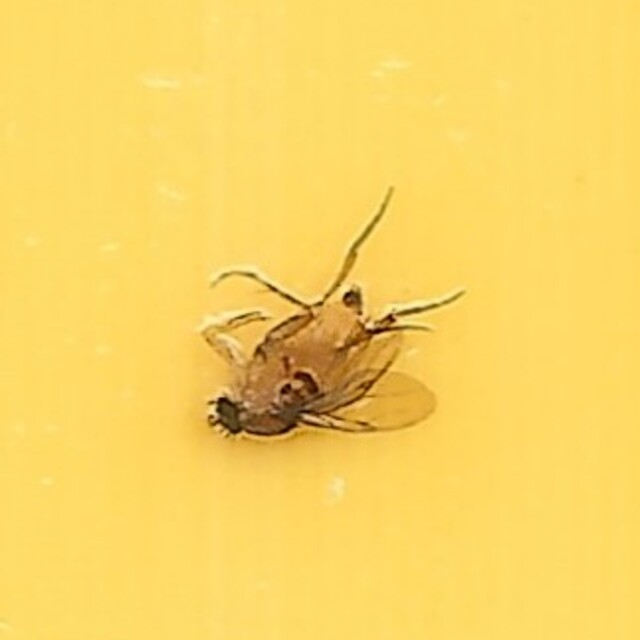Brachycera: (198, 191, 442, 449)
